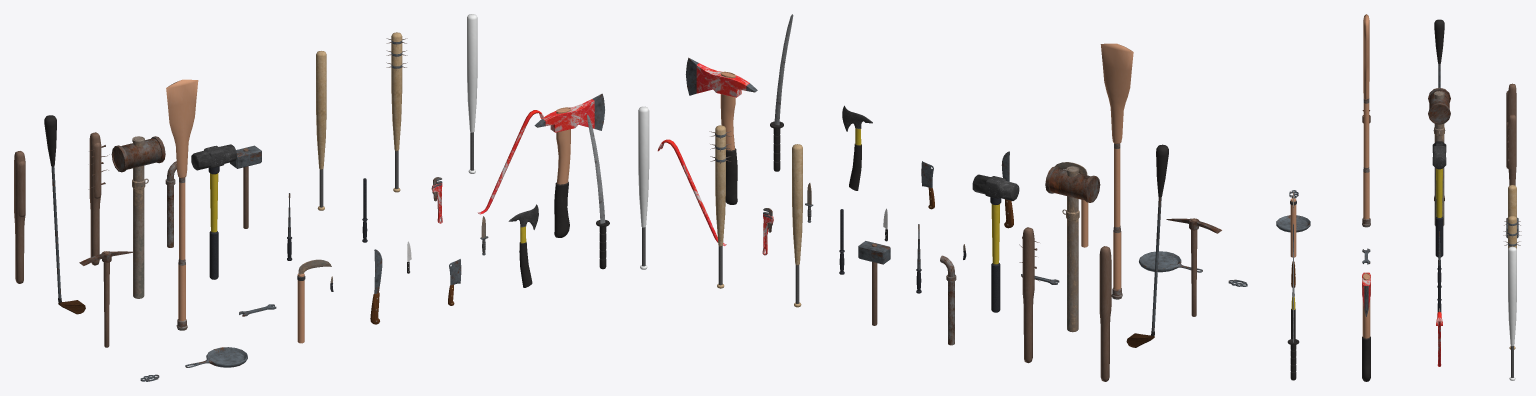
Rendered from survival_melee_weapon_pack.glb.
3 views of the same model, side by side, from view 1: azimuth 30°, elevation 25°; view 2: azimuth 150°, elevation 25°; view 3: azimuth 270°, elevation 25° (orthographic). The views are drawn at different scales.
Visible parts, largest first — view 1: Oar, War_Hammer, Axe, Sledge, Spiked_Board, Spiked_Bat, Board, Bat, Aluminum_Bat, Golf_Club, Katana, Hatchet (+7 smaller); view 2: Oar, War_Hammer, Axe, Sledge, Spiked_Board, Board, Spiked_Bat, Aluminum_Bat, Bat, Golf_Club, Hammer, Katana (+6 smaller); view 3: Oar, War_Hammer, Sledge, Axe, Aluminum_Bat, Spiked_Board, Golf_Club, Frying_Pan, Katana, Sickle, Board, Spiked_Bat (+1 smaller).
Boxes of the visible parts, x1,y1,x2,y2 form: Oar: (166, 79, 198, 330); War_Hammer: (111, 136, 165, 298); Axe: (534, 93, 604, 237); Sledge: (191, 144, 236, 279); Spiked_Board: (88, 132, 109, 265); Spiked_Bat: (386, 32, 407, 192); Board: (14, 151, 25, 283); Bat: (316, 51, 326, 210); Aluminum_Bat: (467, 14, 477, 173); Golf_Club: (44, 115, 85, 314); Katana: (587, 114, 609, 269); Hatchet: (508, 204, 538, 287); Oar: (1100, 43, 1133, 299); War_Hammer: (1045, 166, 1100, 332); Axe: (685, 57, 757, 204); Sledge: (972, 174, 1019, 312); Spiked_Board: (1019, 227, 1039, 363); Board: (1099, 246, 1111, 381); Spiked_Bat: (709, 125, 731, 288); Aluminum_Bat: (638, 106, 649, 269); Bat: (792, 144, 802, 307); Golf_Club: (1126, 144, 1168, 347); Hammer: (858, 241, 890, 325); Katana: (770, 14, 793, 171); Oar: (1362, 14, 1370, 227); War_Hammer: (1428, 87, 1450, 225); Sledge: (1432, 141, 1446, 257); Axe: (1362, 272, 1370, 381); Aluminum_Bat: (1508, 246, 1516, 380); Spiked_Board: (1506, 114, 1516, 185); Golf_Club: (1434, 19, 1444, 200); Frying_Pan: (1276, 215, 1310, 232); Katana: (1287, 242, 1299, 380); Sickle: (1290, 192, 1296, 257); Board: (1506, 83, 1516, 123); Spiked_Bat: (1503, 216, 1521, 349).
Bounding box in the file's own units: 3.47 × 1.58 × 1.68.
1 material, 1 textured.
